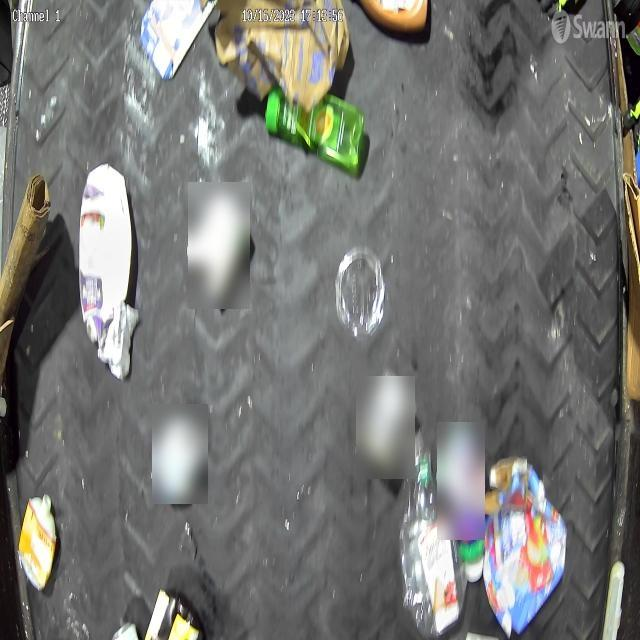milk_jug: (72, 162, 136, 346)
plastic_bottle: (402, 434, 465, 640)
